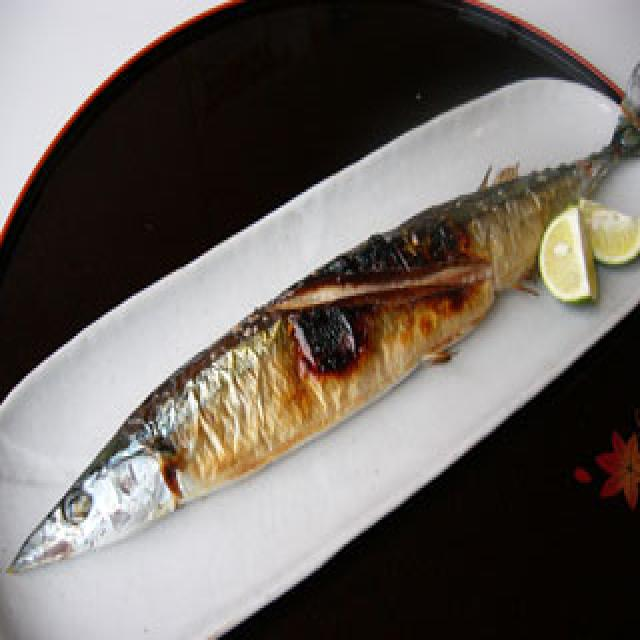熟制海鲜: (0, 96, 640, 576)
